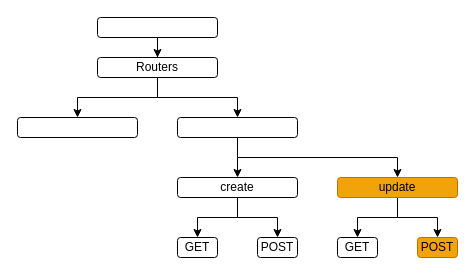
This 475x275 diagram has some shape labels left out. Here are the shapes that lost their labels. From the top down, the centre of each, then its label:
At point 157,27: "Web App".
At point 77,127: "Auth".
At point 237,127: "Issues".
